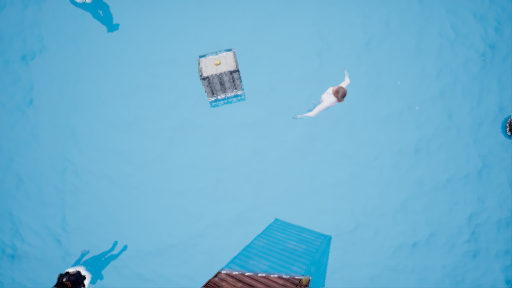person: (55, 244, 123, 288), (301, 69, 348, 126)
